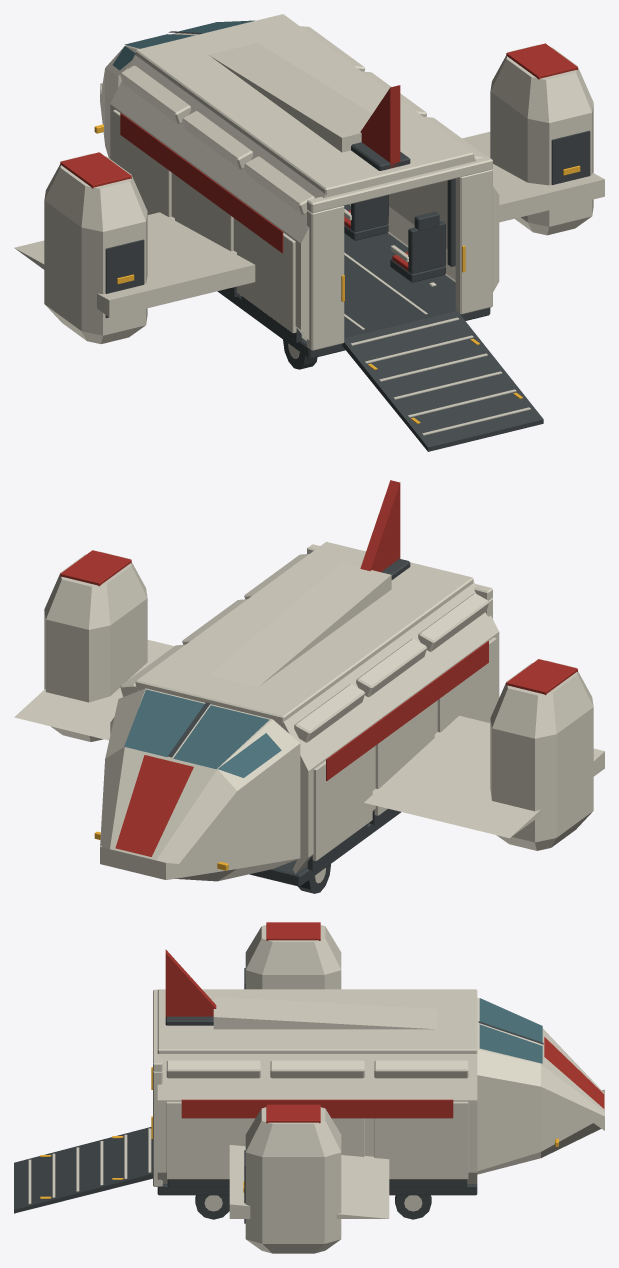
File: transport.v1.glb
3 views of the same model, one above another, from view 1: azimuth 30°, elevation 25°; view 2: azimuth 150°, elevation 25°; view 3: azimuth 270°, elevation 25° (orthographic). The views are drawn at different scales.
Parts seen in each view (by area): view 1: side_shell_batch_transport_root_shared_ivory, static_batch_transport_root_shared_ivory, static_batch_transport_root_shared_charcoal, side_shell_batch_rear_ramp_hinge_shared_charcoal, static_batch_transport_root_shared_red, static_batch_rear_ramp_hinge_shared_ivory, side_shell_batch_transport_root_shared_charcoal, static_batch_transport_root_cockpit_glass; view 2: static_batch_transport_root_shared_ivory, side_shell_batch_transport_root_shared_ivory, static_batch_transport_root_shared_red, static_batch_transport_root_cockpit_glass, static_batch_transport_root_shared_charcoal, side_shell_batch_transport_root_shared_charcoal; view 3: side_shell_batch_transport_root_shared_ivory, static_batch_transport_root_shared_ivory, static_batch_transport_root_shared_red, side_shell_batch_rear_ramp_hinge_shared_charcoal, static_batch_transport_root_shared_charcoal, static_batch_transport_root_cockpit_glass, side_shell_batch_transport_root_shared_charcoal, static_batch_rear_ramp_hinge_shared_ivory.
Boxes of the visible parts, x1,y1,x2,y2 form: side_shell_batch_transport_root_shared_ivory: [110, 14, 499, 350]; static_batch_transport_root_shared_ivory: [14, 33, 604, 358]; static_batch_transport_root_shared_charcoal: [105, 31, 590, 369]; side_shell_batch_rear_ramp_hinge_shared_charcoal: [342, 311, 543, 451]; static_batch_transport_root_shared_red: [60, 33, 577, 270]; static_batch_rear_ramp_hinge_shared_ivory: [350, 317, 530, 435]; side_shell_batch_transport_root_shared_charcoal: [224, 178, 455, 342]; static_batch_transport_root_cockpit_glass: [113, 20, 254, 70]; static_batch_transport_root_shared_ivory: [14, 551, 604, 883]; side_shell_batch_transport_root_shared_ivory: [110, 541, 499, 874]; static_batch_transport_root_shared_red: [60, 480, 577, 856]; static_batch_transport_root_cockpit_glass: [124, 689, 281, 777]; static_batch_transport_root_shared_charcoal: [167, 558, 410, 893]; side_shell_batch_transport_root_shared_charcoal: [307, 808, 394, 870]; side_shell_batch_transport_root_shared_ivory: [153, 989, 477, 1186]; static_batch_transport_root_shared_ivory: [204, 925, 604, 1253]; static_batch_transport_root_shared_red: [165, 922, 604, 1123]; side_shell_batch_rear_ramp_hinge_shared_charcoal: [14, 1127, 152, 1213]; static_batch_transport_root_shared_charcoal: [157, 968, 543, 1223]; static_batch_transport_root_cockpit_glass: [479, 998, 542, 1063]; side_shell_batch_transport_root_shared_charcoal: [167, 1179, 467, 1186]; static_batch_rear_ramp_hinge_shared_ivory: [28, 1128, 151, 1204].
Bounding box in the file's own units: 62 × 33 × 74.
